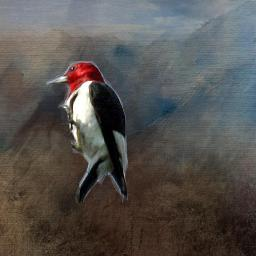Woodpecker: (45, 61, 130, 203)
